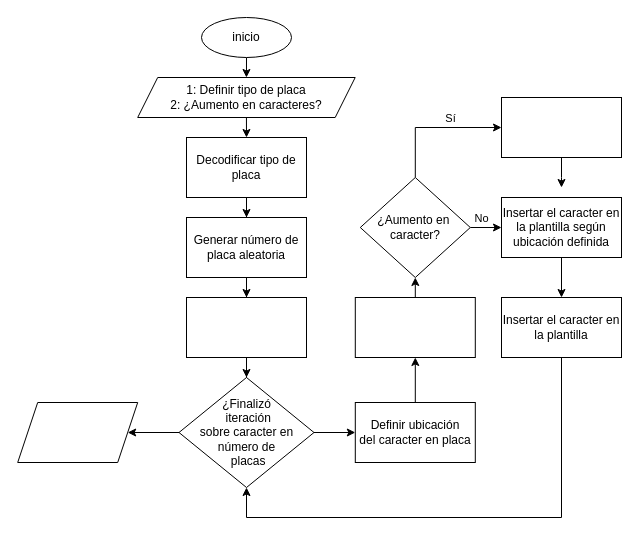
The diagram is 639 pixels wide and 543 high, and some of its shapes have lost their labels. Each missing label, with the centre of its shape:
"Aplicar aumentado en caracter" belongs at (x=561, y=127).
"Cargar plantilla de placa según tipo de placa" belongs at (x=246, y=327).
"Cargar una plantila de caracter" belongs at (x=414, y=327).
"Retornar imagen" belongs at (x=77, y=432).
